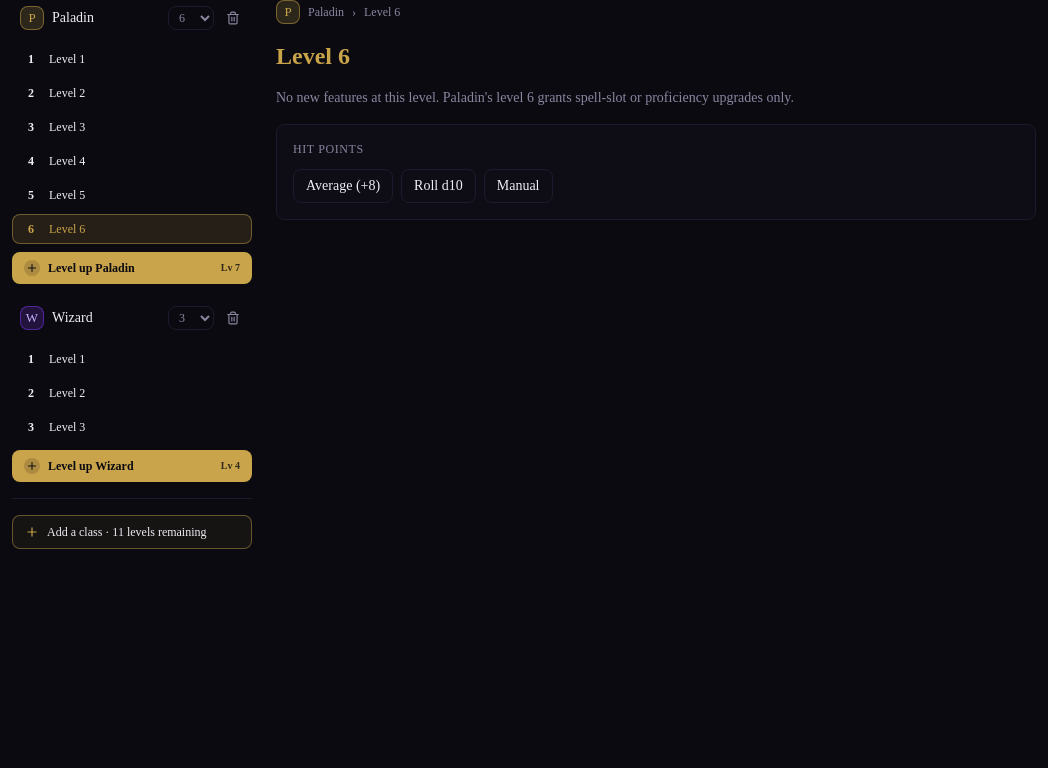
Scenario: ClassStepRail — level-up flow › clicking idle LevelUpButton opens the LevelUpPane in main pane
The image size is (1048, 768).
Step 1. Click the button with aria-label "Level up Paladin to level 7" → (132, 268), box x1=12 y1=252 x2=252 y2=284
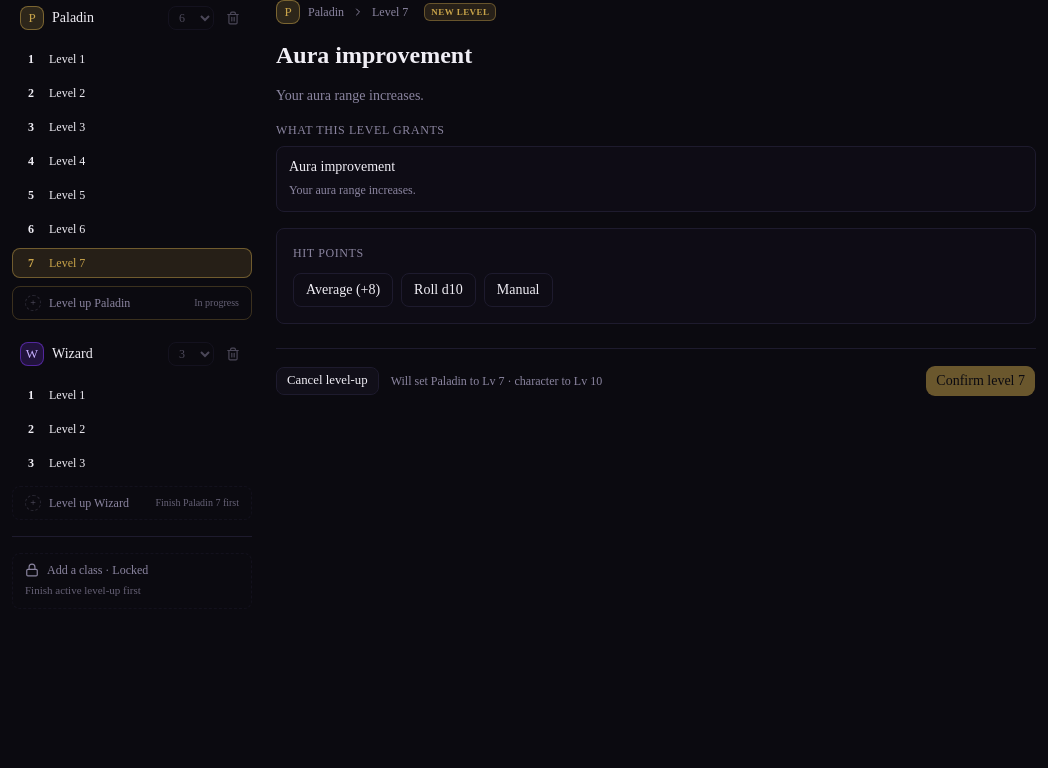
Expected: the 1st heading "Aura improvement" is shown, x1=276 y1=42 x2=472 y2=68
Expected: the text "NEW LEVEL" is shown, x1=424 y1=3 x2=496 y2=21
